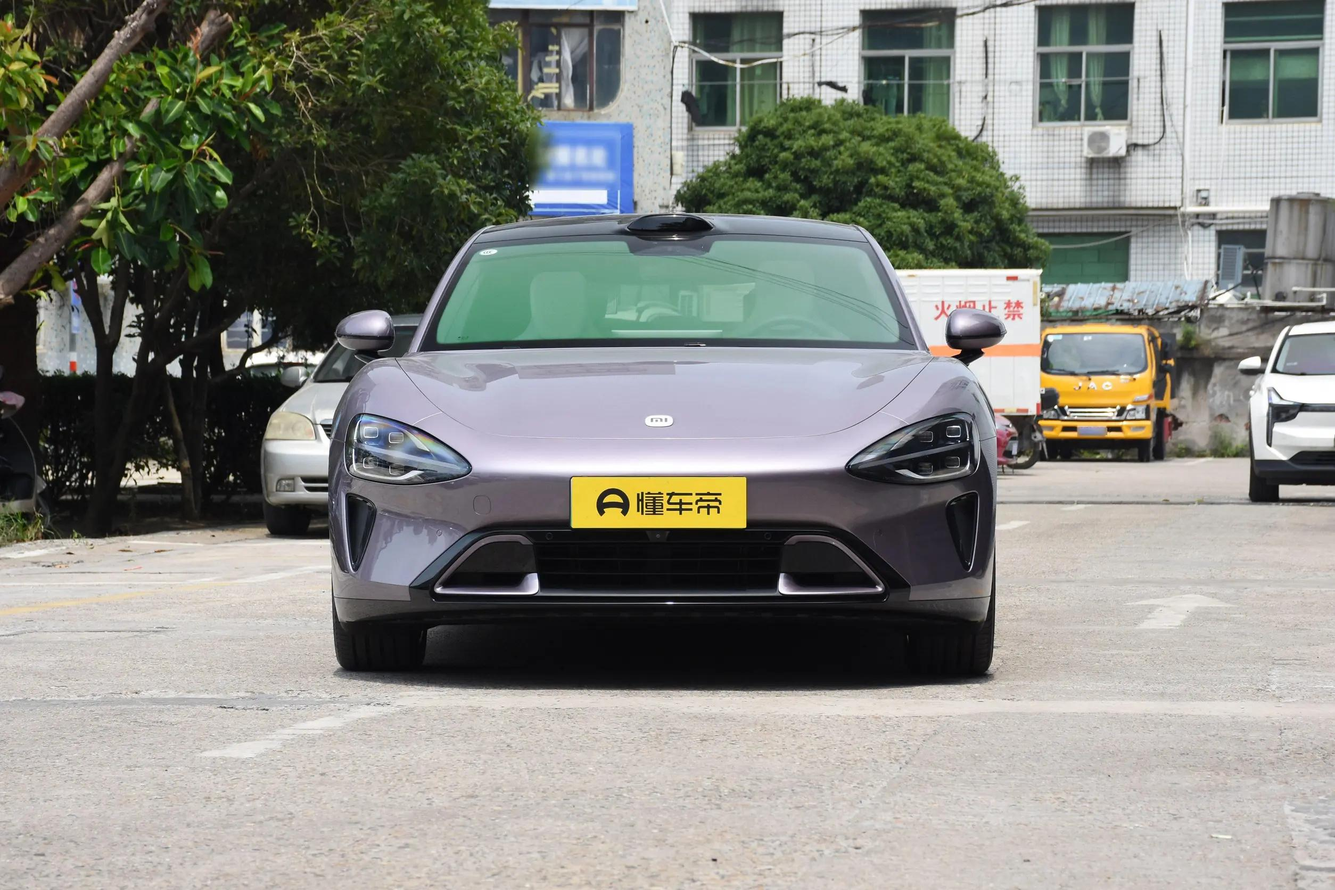XIAOMI: (645, 415, 673, 427)
